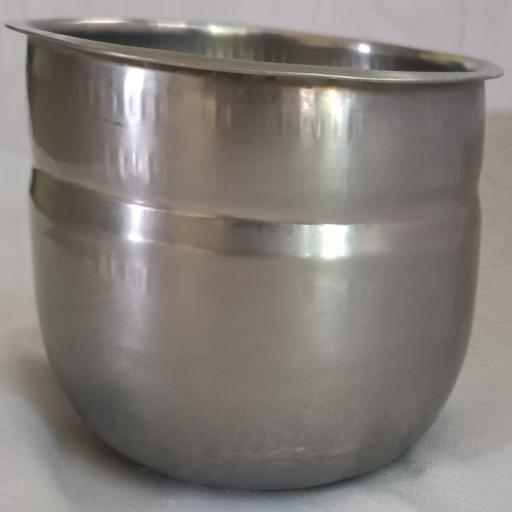vessel: (11, 19, 501, 489)
